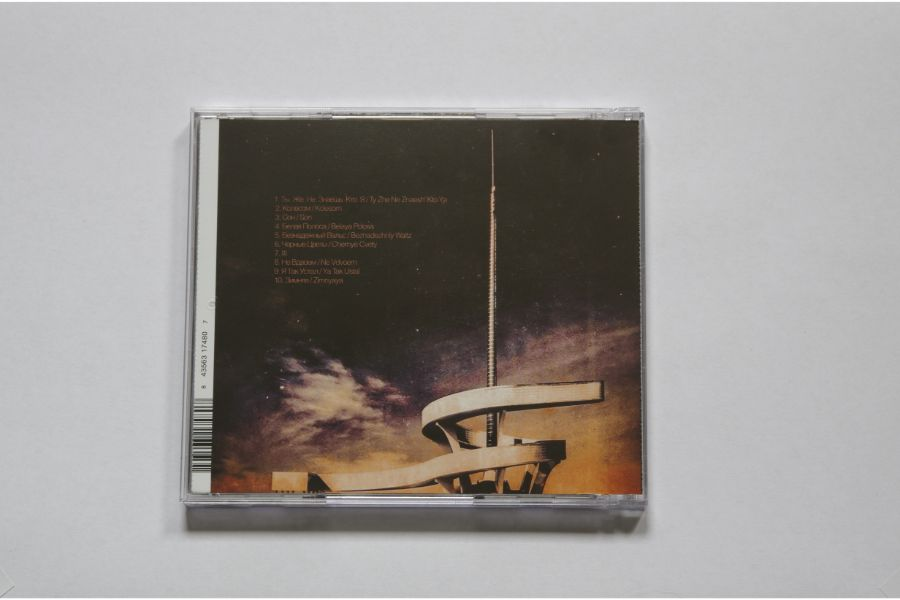album: (181, 106, 648, 521)
